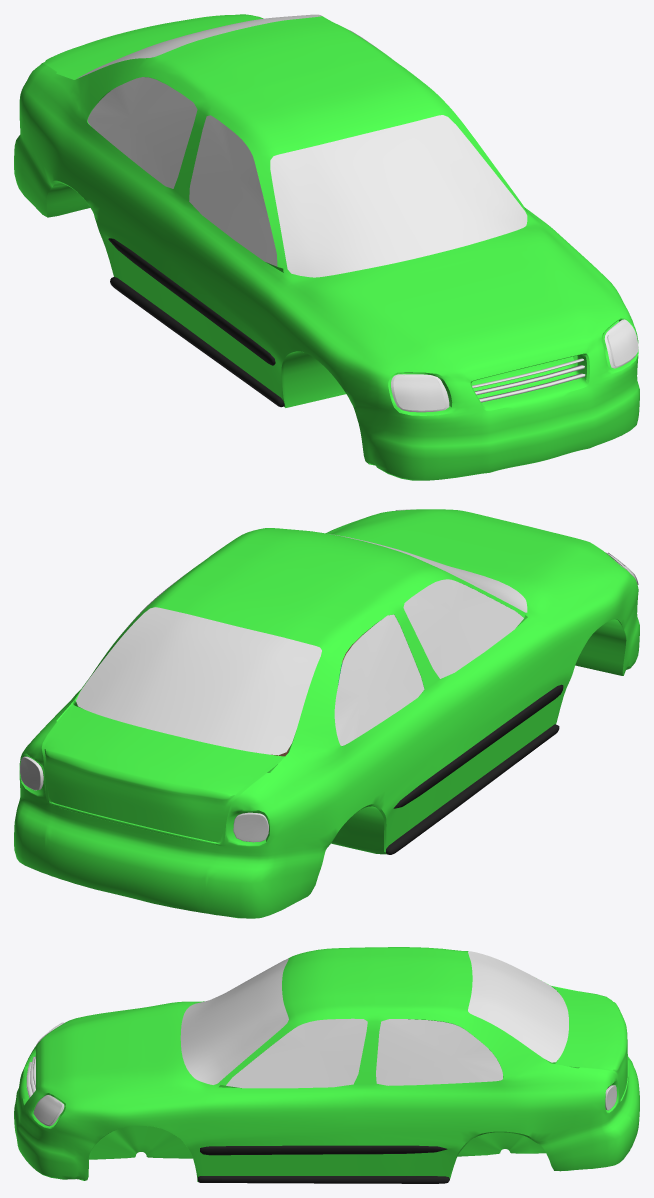
The model's file is ascent.fbx.
The picture shows the model from 3 angles, top to bottom: view 1: azimuth 30°, elevation 25°; view 2: azimuth 150°, elevation 25°; view 3: azimuth 270°, elevation 25°; orthographic projection. The views are drawn at different scales.
Parts seen in each view (by area): view 1: body, Plane.003, Plane.002, Plane.001, Plane.006, Plane.005; view 2: body, Plane.005, Plane.002, Plane.001, Plane.006, Plane.003; view 3: body, Plane.003, Plane.002, Plane.001, Plane.005, Plane.006.
Part boxes in pixels (x1,y1,x2,y2): body: (14, 14, 639, 480); Plane.003: (270, 115, 527, 277); Plane.002: (87, 29, 380, 188); Plane.001: (189, 115, 277, 266); Plane.006: (108, 238, 284, 407); Plane.005: (77, 14, 321, 78); body: (14, 509, 639, 918); Plane.005: (76, 607, 321, 755); Plane.002: (119, 573, 424, 745); Plane.001: (403, 579, 523, 678); Plane.006: (386, 684, 563, 854); Plane.003: (330, 534, 527, 612); body: (14, 947, 639, 1181); Plane.003: (180, 958, 288, 1084); Plane.002: (376, 1019, 502, 1085); Plane.001: (226, 1018, 367, 1088); Plane.005: (468, 951, 568, 1062); Plane.006: (197, 1145, 449, 1183).
Size of the model in its own units: 1.29 by 0.9205 by 3.22.
